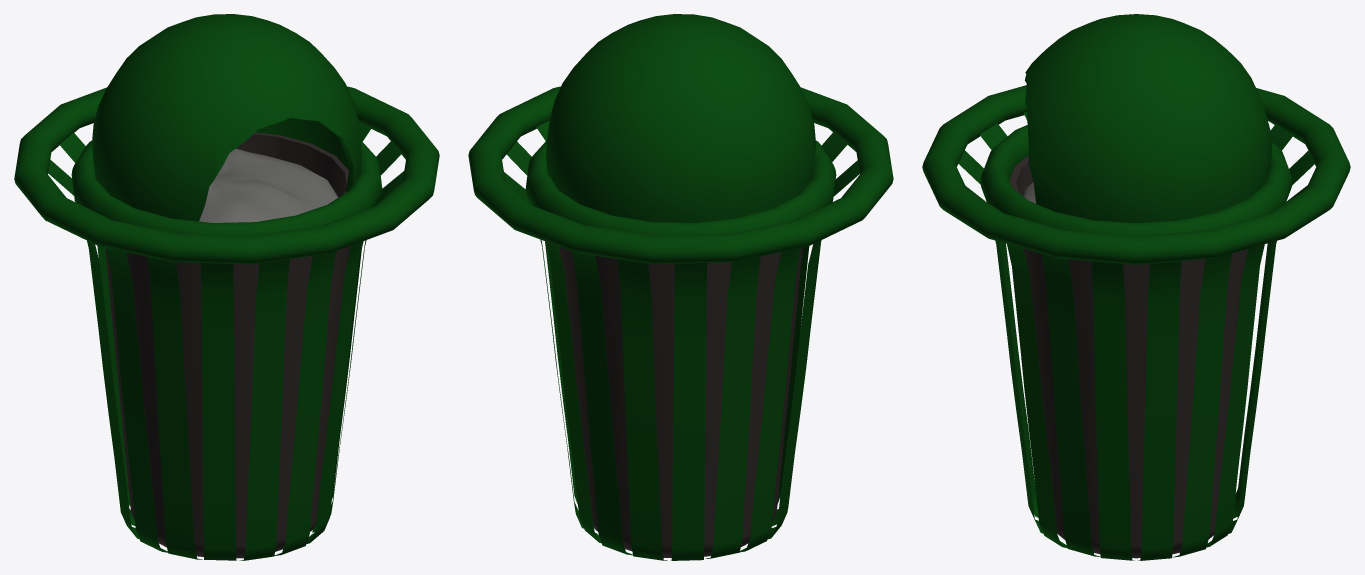
Rendered from lounge_trash.fbx.
The picture shows the model from 3 angles, left to right: view 1: azimuth 30°, elevation 25°; view 2: azimuth 150°, elevation 25°; view 3: azimuth 270°, elevation 25°; orthographic projection.
Parts seen in each view (by area): view 1: Shell, Bin, Trash; view 2: Shell, Bin; view 3: Shell, Bin.
Boxes of the visible parts, x1=… form: Shell: x1=14, y1=14, x2=439, y2=560; Bin: x1=105, y1=132, x2=349, y2=558; Trash: x1=199, y1=148, x2=338, y2=222; Shell: x1=468, y1=14, x2=893, y2=560; Bin: x1=558, y1=246, x2=802, y2=557; Shell: x1=922, y1=14, x2=1350, y2=560; Bin: x1=1009, y1=155, x2=1247, y2=558.
Bounding box in the file's own units: 4.63 × 6.01 × 4.63.
